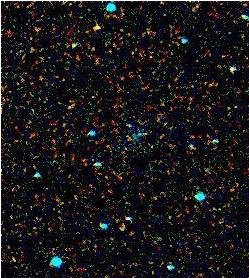star: (107, 212, 137, 242)
